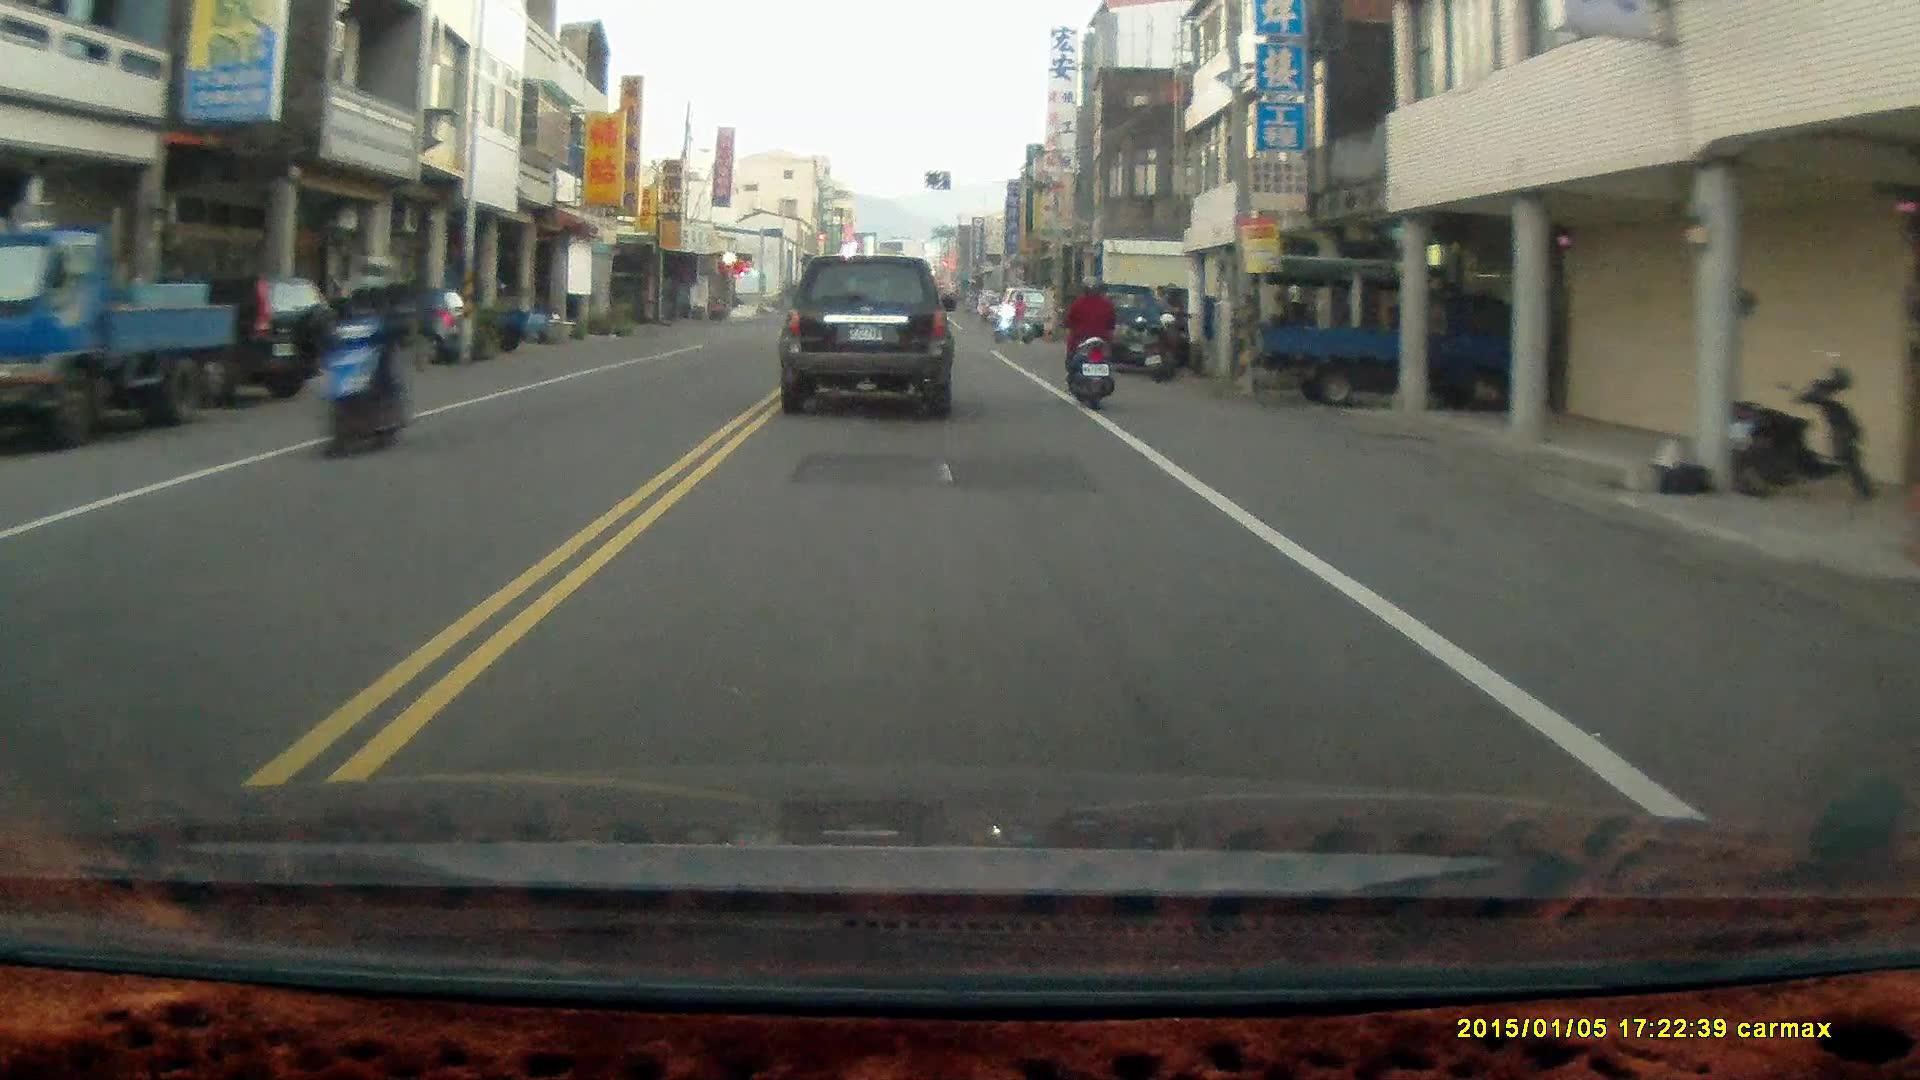rider: (303, 250, 414, 457), (1062, 275, 1116, 410), (992, 292, 1032, 343)
vehicle: (1, 227, 240, 451), (1255, 263, 1551, 417), (114, 265, 345, 409), (778, 256, 956, 425), (314, 285, 475, 371)
